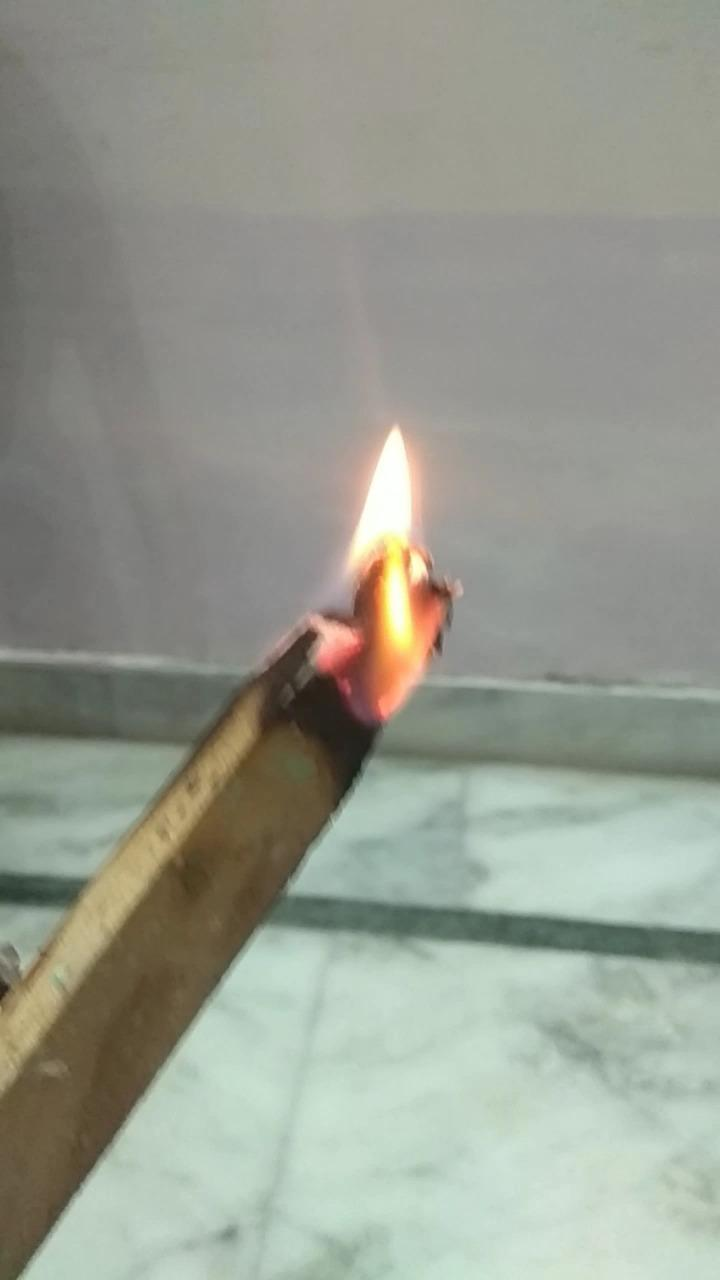fire: (306, 408, 470, 735)
